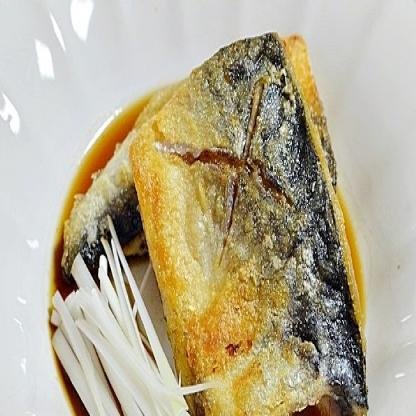Peixe: (52, 29, 370, 416)
